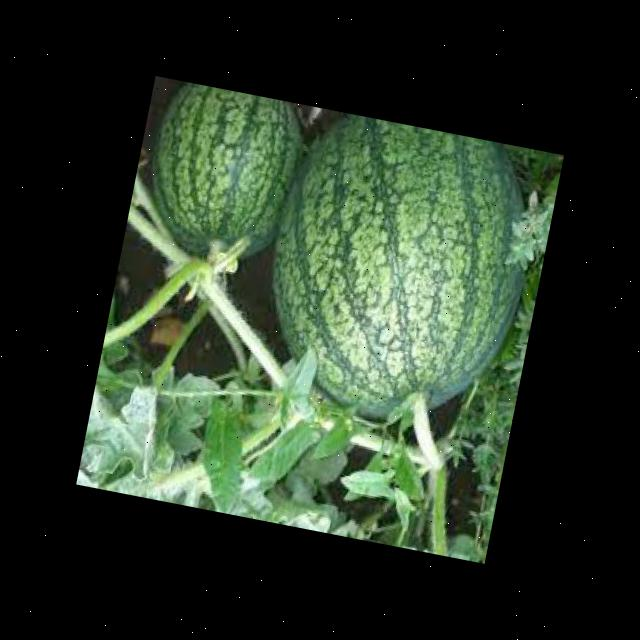watermelon: (245, 104, 550, 440), (134, 79, 312, 274), (527, 168, 561, 254)
